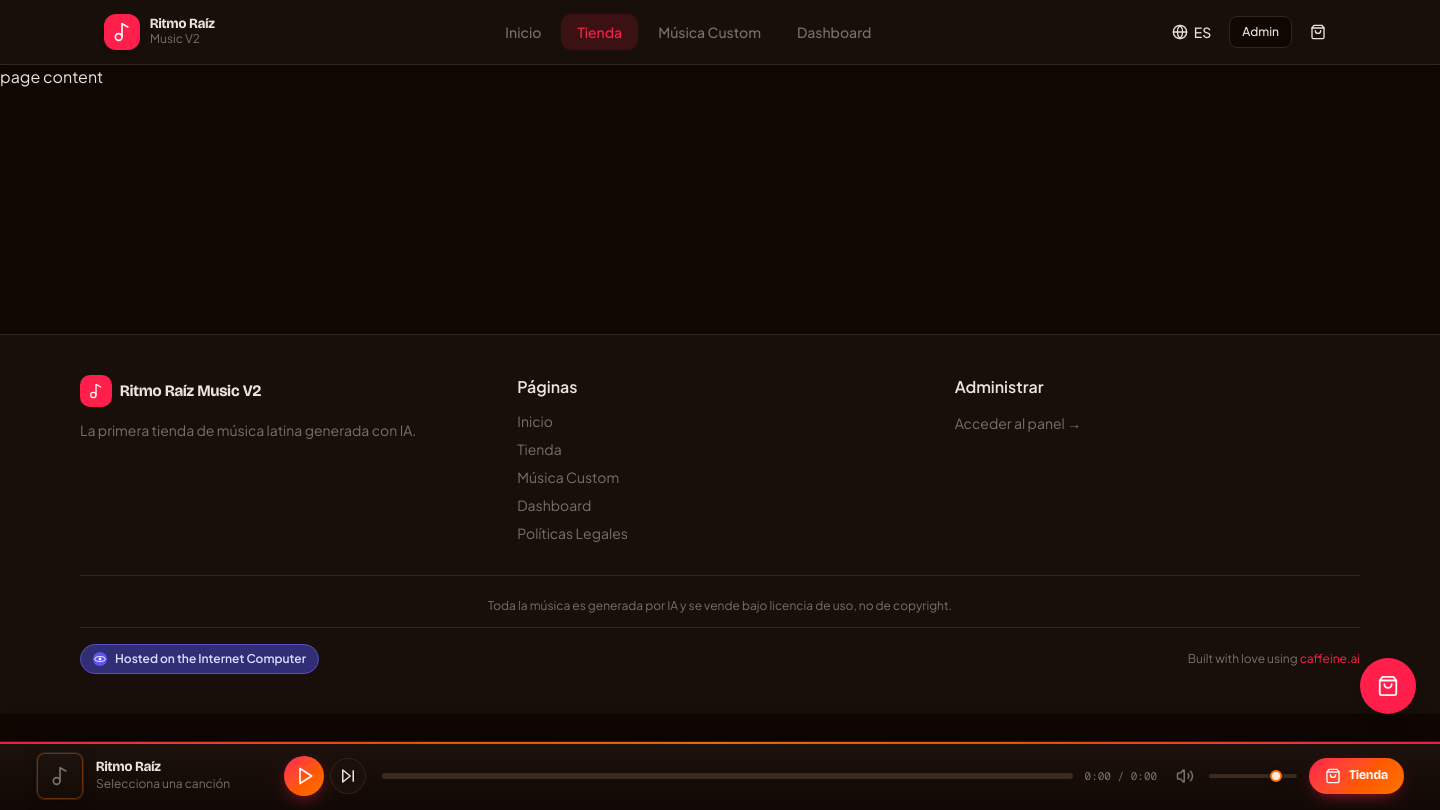
Layout › opens the cart sidebar when the cart button is clicked
Expected: the text "Tu Carrito" is not shown
Click the button with test id "layout.cart_button": point(1318, 32) x1=1300 y1=16 x2=1336 y2=48
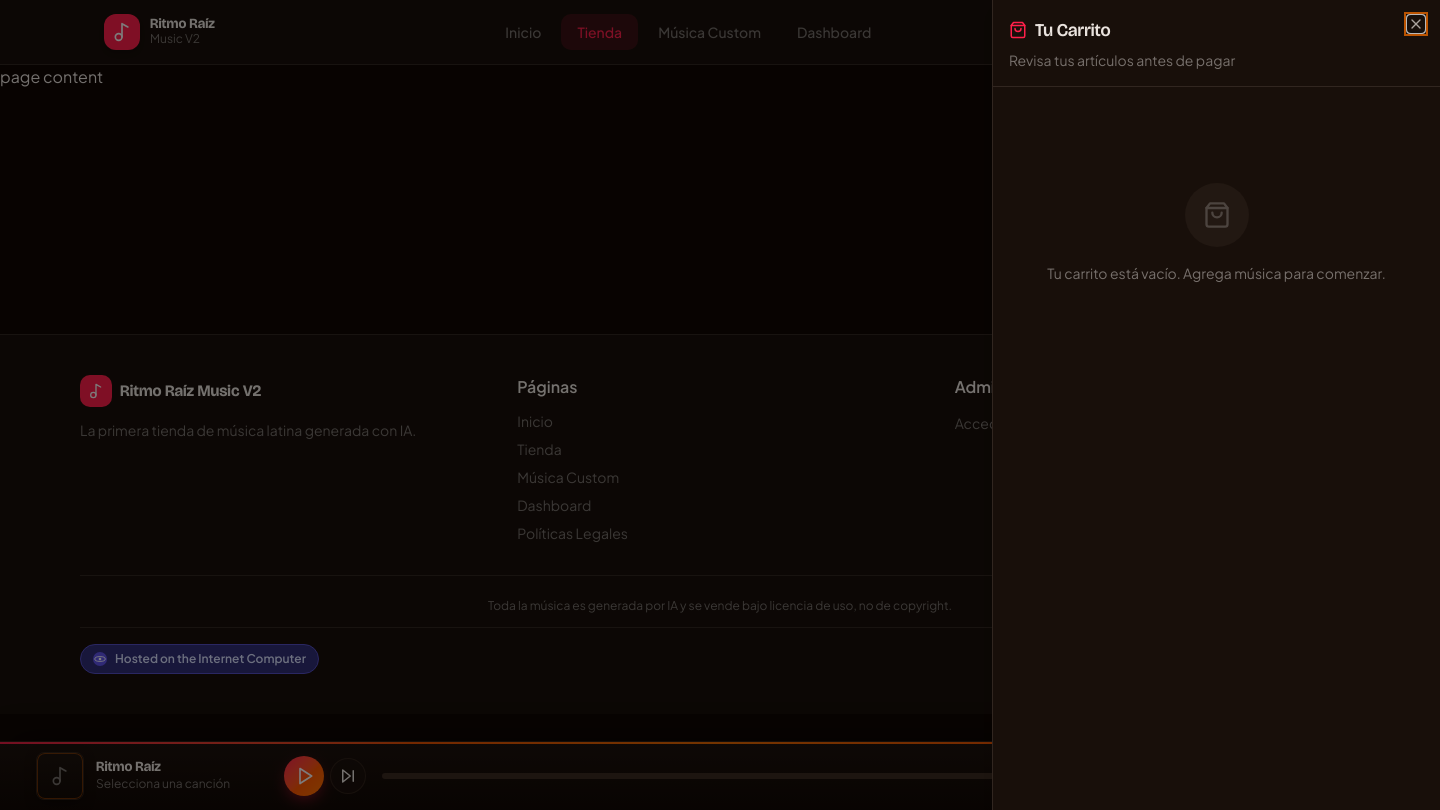
Expected: the heading "Tu Carrito" is shown, x1=1009 y1=19 x2=1111 y2=41
